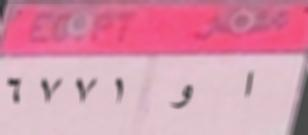1: (110, 71, 131, 114)
6: (4, 72, 27, 114)
7: (71, 70, 100, 114), (37, 71, 66, 113)
alif: (240, 66, 260, 104)
waw: (165, 77, 195, 117)
